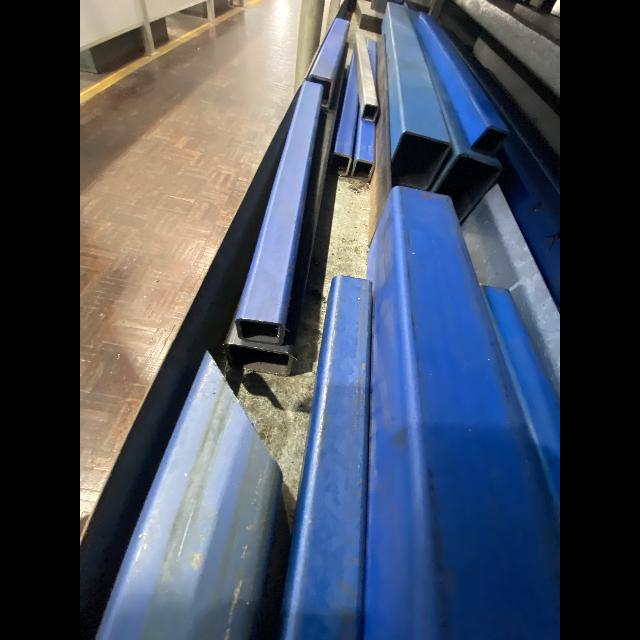Ferrous Metal: (360, 185, 560, 640), (95, 348, 286, 638), (278, 275, 372, 640), (236, 81, 324, 345), (409, 10, 500, 222), (481, 286, 560, 518), (416, 13, 509, 156), (381, 1, 451, 190), (371, 32, 392, 243), (327, 53, 358, 177), (309, 17, 351, 108), (353, 32, 379, 122), (349, 108, 376, 182), (368, 38, 378, 92)
